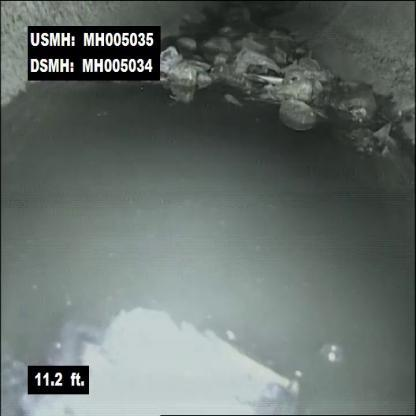obsc: (159, 3, 415, 163)
